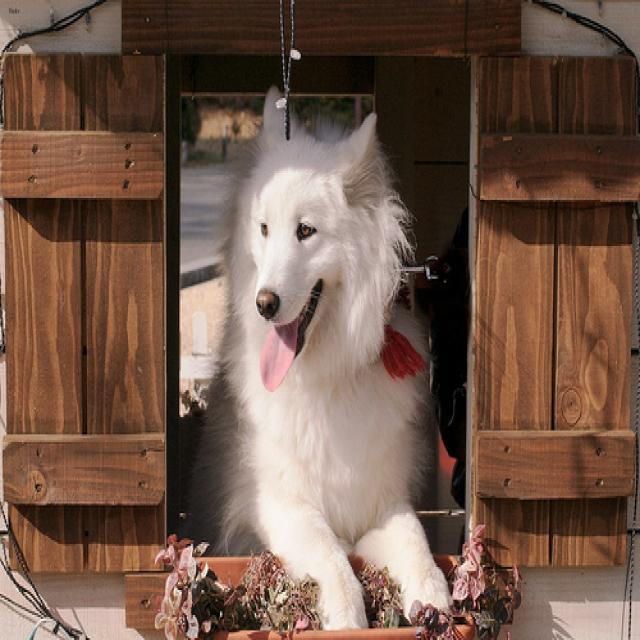dog-samoyed: (179, 83, 458, 636)
